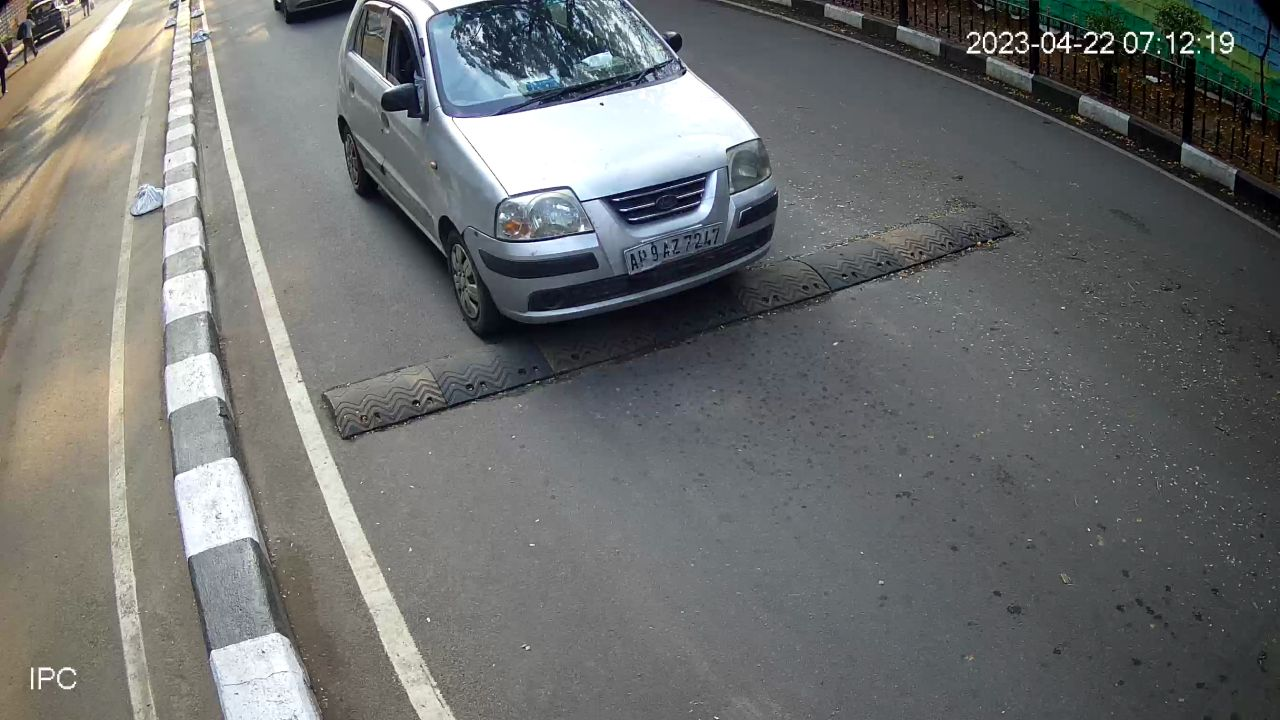license_plate: (621, 217, 725, 284)
